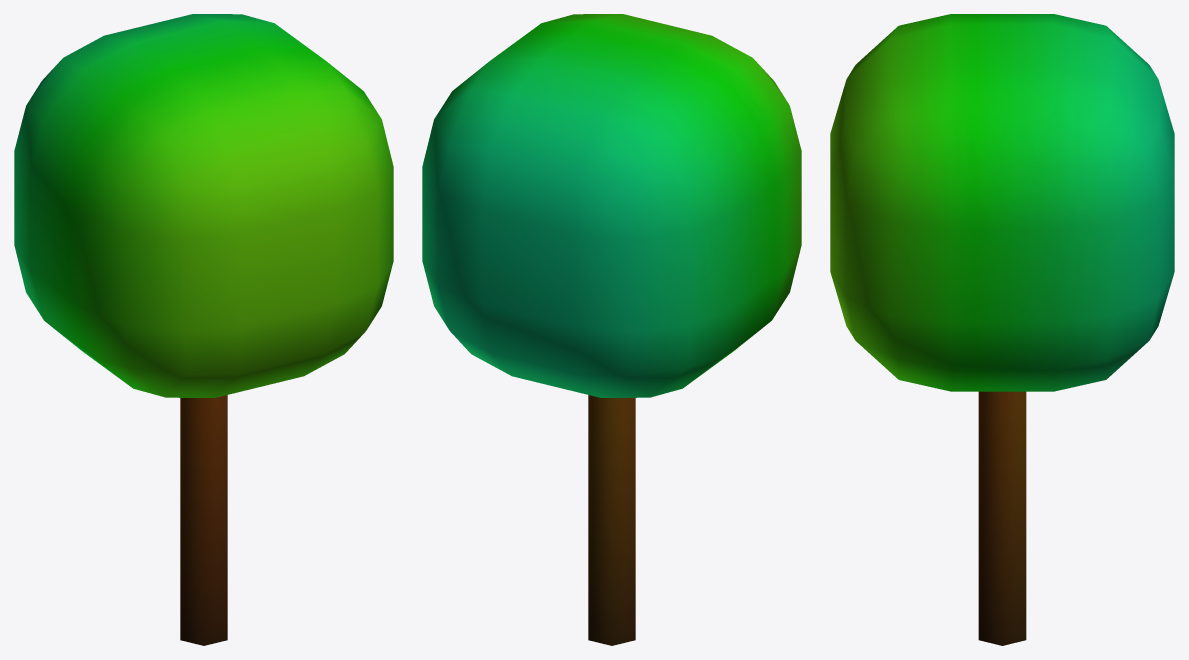
File: Tree.fbx
3 renders of one model, left to right at view 1: azimuth 30°, elevation 25°; view 2: azimuth 150°, elevation 25°; view 3: azimuth 270°, elevation 25°, orthographic.
Parts seen in each view (by area): view 1: tree; view 2: tree; view 3: tree.
Boxes of the visible parts, box(x1,y1,x2,y2) form: tree: box(14, 14, 393, 645); tree: box(422, 14, 801, 645); tree: box(830, 14, 1174, 645).
Size of the model in its own units: 2.24 by 4.22 by 2.24.
